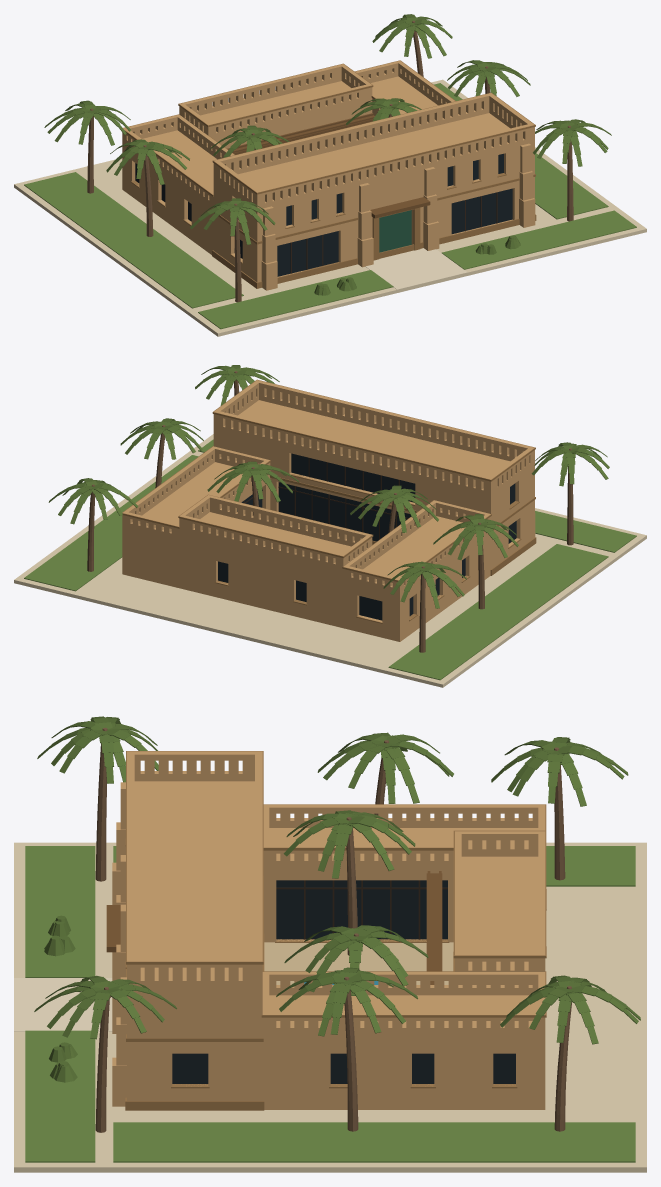
Rendered from qassimi.glb.
3 renders of one model, top to bottom at view 1: azimuth 30°, elevation 25°; view 2: azimuth 150°, elevation 25°; view 3: azimuth 270°, elevation 25°, orthographic. The views are drawn at different scales.
Visible parts, largest first — view 1: Qassimi_mud, Qassimi_lawn, Qassimi_pave, Qassimi_leaf, Qassimi_mud_dark, Qassimi_glass, Qassimi_coping, Qassimi_trunk, Qassimi_wood, Qassimi_door; view 2: Qassimi_mud, Qassimi_pave, Qassimi_lawn, Qassimi_leaf, Qassimi_glass, Qassimi_mud_dark, Qassimi_trunk, Qassimi_frame; view 3: Qassimi_mud, Qassimi_lawn, Qassimi_pave, Qassimi_leaf, Qassimi_glass, Qassimi_trunk, Qassimi_mud_dark, Qassimi_court, Qassimi_coping, Qassimi_wood, Qassimi_frame.
Boxes of the visible parts, <box> form: Qassimi_mud: <box>122,60,535,290</box>; Qassimi_lawn: <box>24,83,636,329</box>; Qassimi_pave: <box>14,79,646,336</box>; Qassimi_leaf: <box>44,14,611,295</box>; Qassimi_mud_dark: <box>123,60,536,288</box>; Qassimi_glass: <box>135,153,512,276</box>; Qassimi_coping: <box>365,248,467,289</box>; Qassimi_trunk: <box>87,20,573,302</box>; Qassimi_wood: <box>227,113,430,218</box>; Qassimi_door: <box>379,210,411,252</box>; Qassimi_mud: <box>122,380,535,641</box>; Qassimi_pave: <box>14,434,646,687</box>; Qassimi_lawn: <box>24,439,636,680</box>; Qassimi_leaf: <box>48,365,609,608</box>; Qassimi_glass: <box>218,453,516,620</box>; Qassimi_mud_dark: <box>122,379,536,623</box>; Qassimi_trunk: <box>87,371,573,652</box>; Qassimi_frame: <box>237,458,408,539</box>; Qassimi_mud: <box>112,751,545,1109</box>; Qassimi_lawn: <box>25,846,635,1162</box>; Qassimi_pave: <box>14,842,646,1172</box>; Qassimi_leaf: <box>34,716,640,1082</box>; Qassimi_glass: <box>172,880,515,1083</box>; Qassimi_trunk: <box>95,727,571,1132</box>; Qassimi_mud_dark: <box>125,751,546,1110</box>; Qassimi_court: <box>264,942,453,984</box>; Qassimi_coping: <box>14,978,391,1031</box>; Qassimi_wood: <box>106,871,442,984</box>; Qassimi_frame: <box>276,880,447,939</box>.
Size of the model in its own units: 34 by 7.58 by 28.
